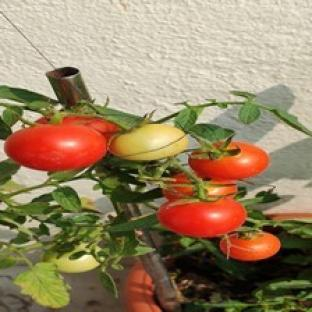Tomato: (5, 124, 107, 171), (158, 198, 246, 238), (109, 124, 188, 161), (189, 143, 268, 179), (219, 232, 281, 261), (44, 244, 100, 272), (62, 116, 121, 140), (162, 173, 196, 200)
